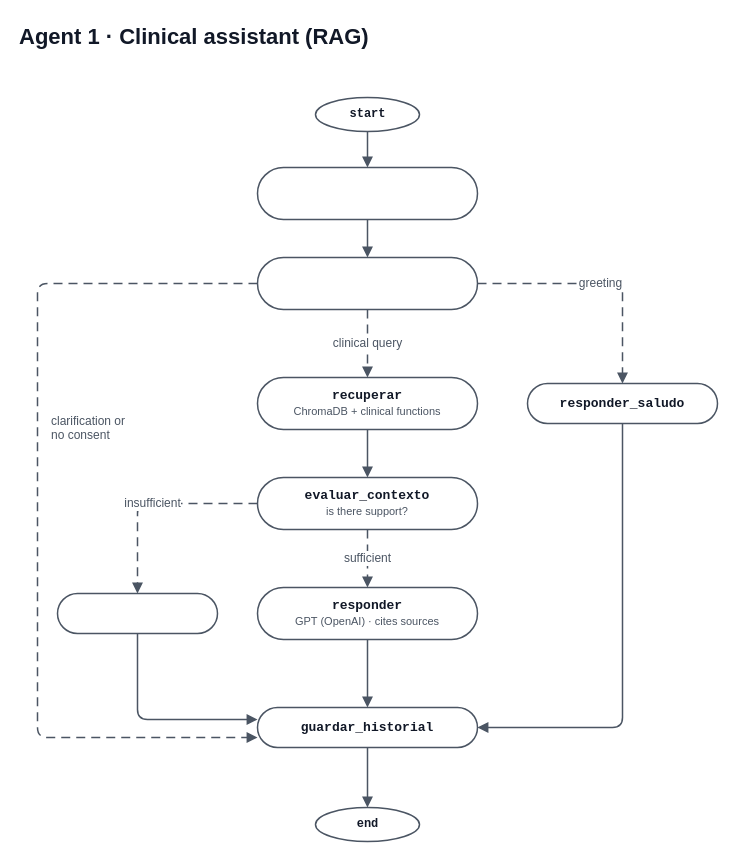
Image size: 735x859. Some labels were removed from this diagram. Each missing label, with the centre of its shape:
rechazar: the point at 137,613
resolver_paciente patient · consent: the point at 367,283
validar_intencion question type · role: the point at 367,193
